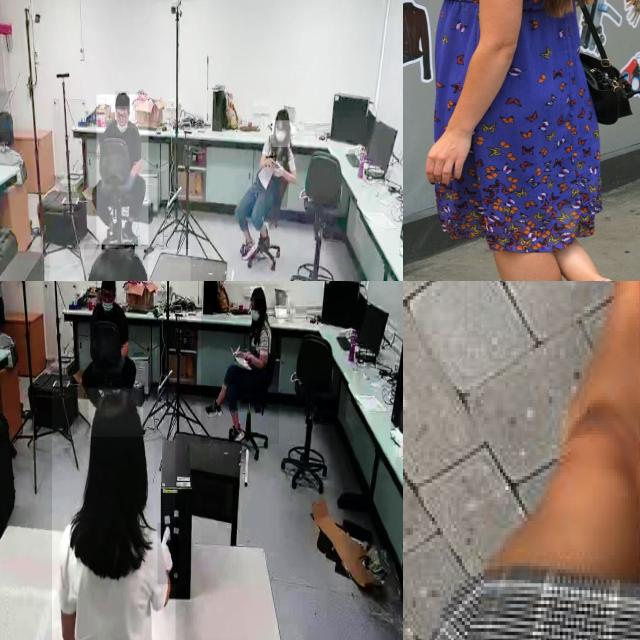face_mask: (97, 288, 117, 318), (248, 292, 264, 323), (272, 120, 290, 147)
hand_glove: (158, 523, 178, 584)
hand_noglove: (274, 161, 284, 177), (244, 352, 254, 367), (266, 156, 274, 168)
head_nohelmet: (88, 388, 144, 438), (83, 244, 148, 281), (114, 91, 130, 107), (274, 107, 290, 122), (251, 286, 265, 300), (100, 281, 115, 289)
person: (52, 387, 176, 640), (201, 284, 279, 444), (234, 107, 298, 264), (97, 94, 149, 244), (81, 281, 138, 408)
shoes: (202, 396, 225, 422), (120, 217, 140, 245), (238, 237, 258, 264), (260, 217, 270, 251)
